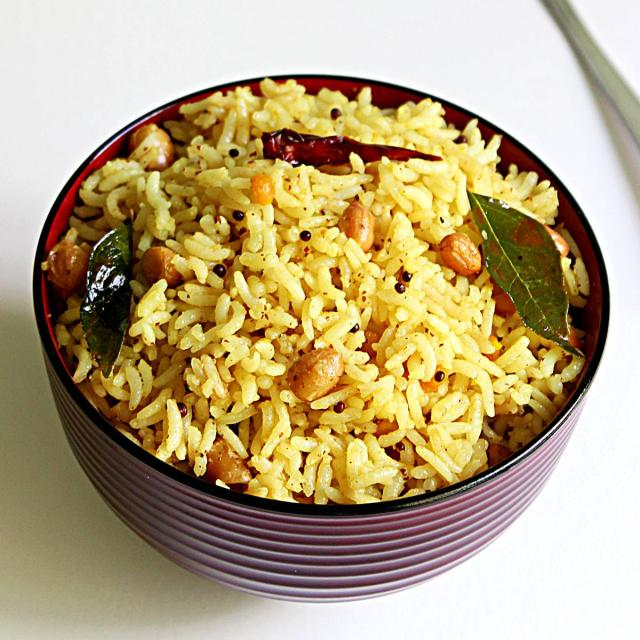puliyogare: (31, 62, 608, 530)
